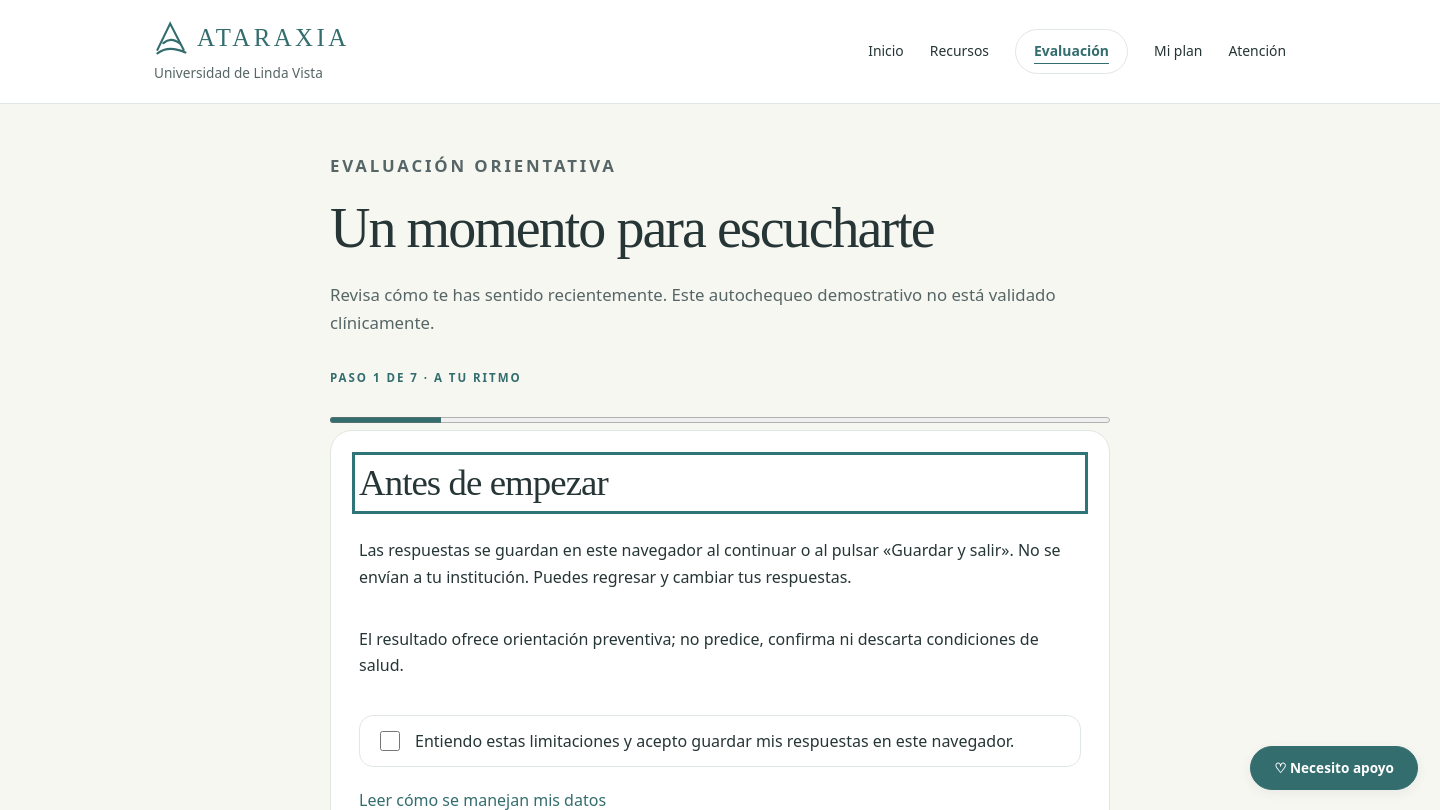
Scenario: accessible routes and navigation › allows returning from an incomplete step and continuing again
Click the checkbox. click: point(390, 741)
box: left=380, top=731, right=400, bottom=751
(page scrolled)
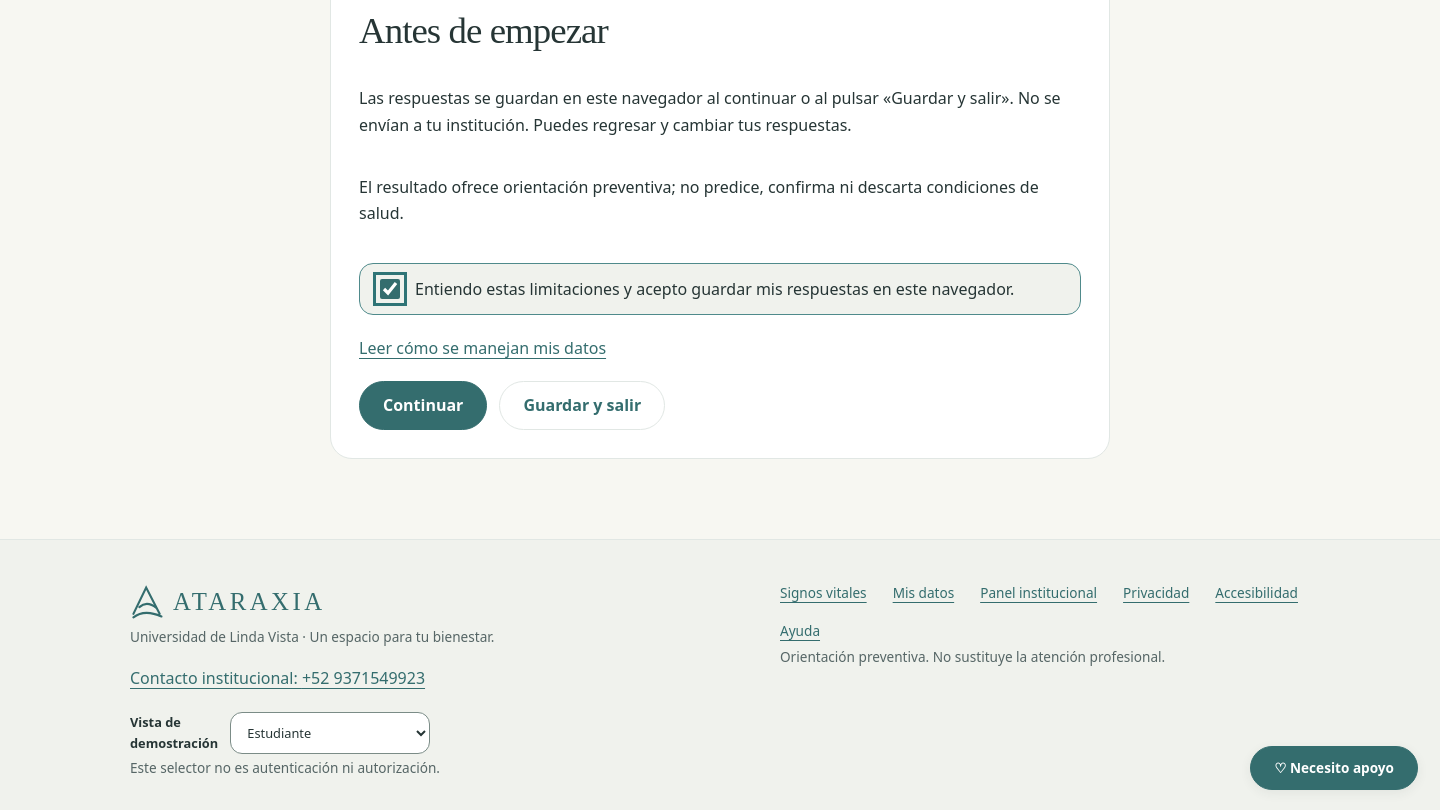
Click the button "Continuar". click: point(423, 406)
box: left=359, top=382, right=487, bottom=430
(page scrolled)
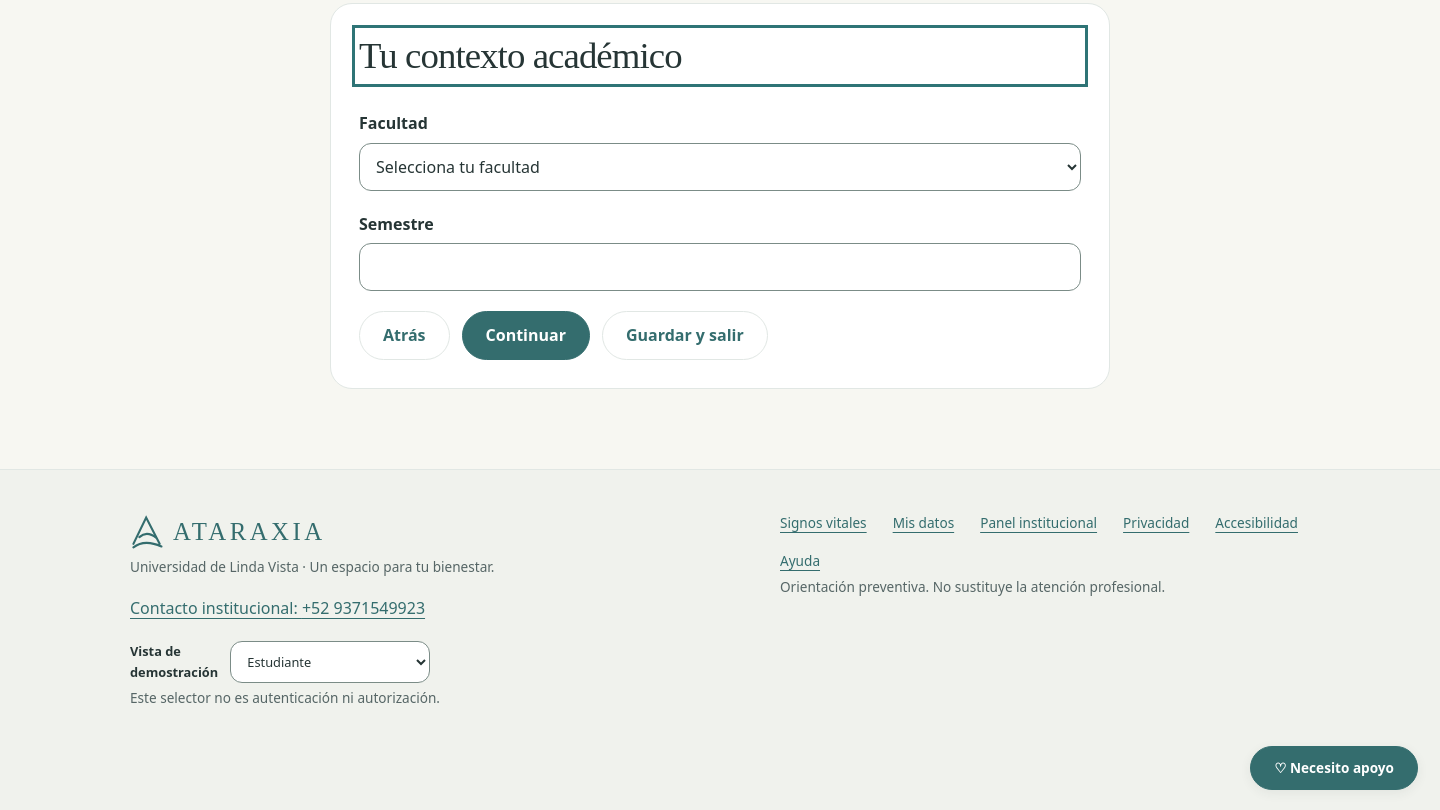
Click the button "Atrás". click: point(404, 336)
box: left=359, top=311, right=450, bottom=360
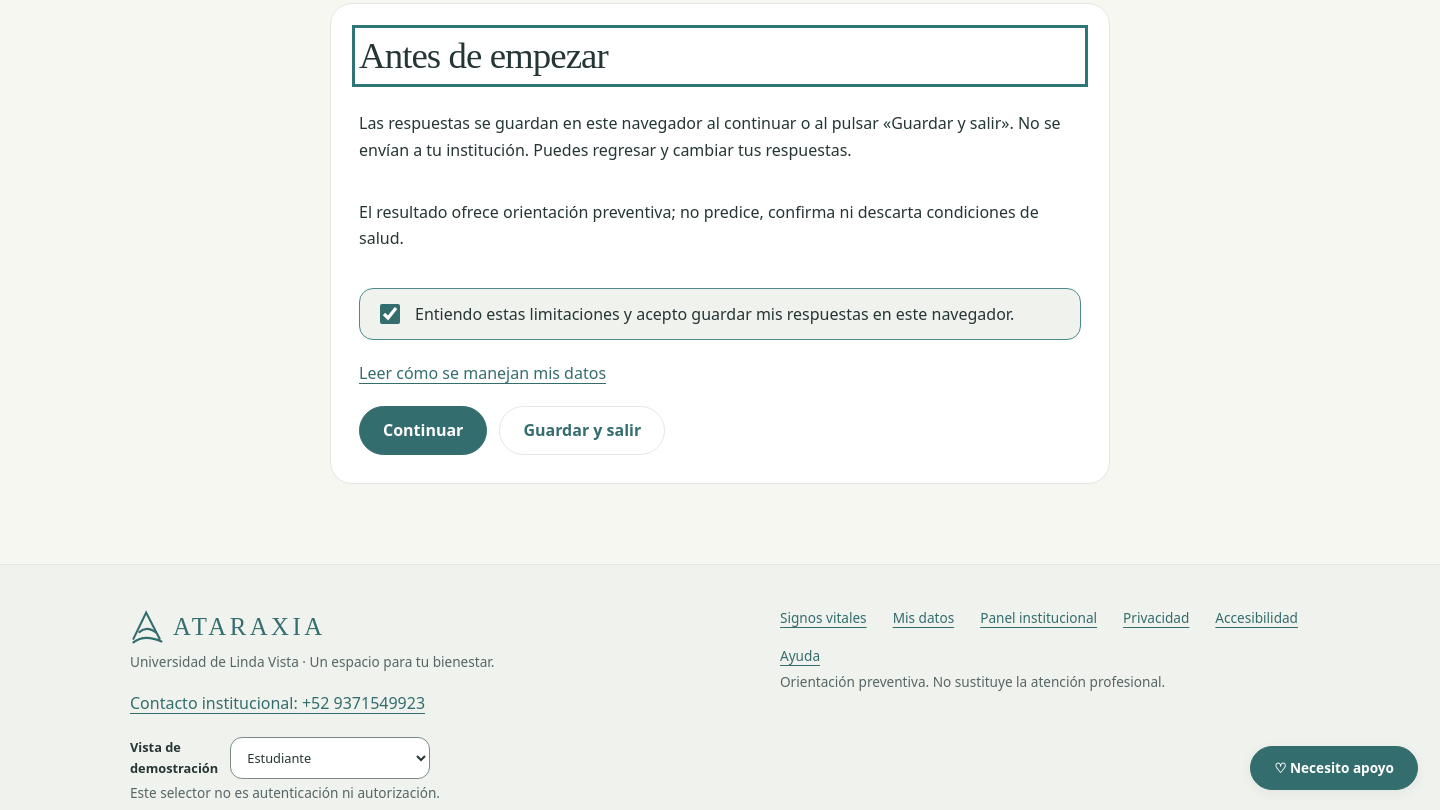
Check: the heading "Antes de empezar" is shown, box left=359, top=35, right=608, bottom=76
Check: the checkbox is checked, box left=380, top=304, right=400, bottom=324
Click the button "Continuar". click: point(423, 431)
box: left=359, top=406, right=487, bottom=455
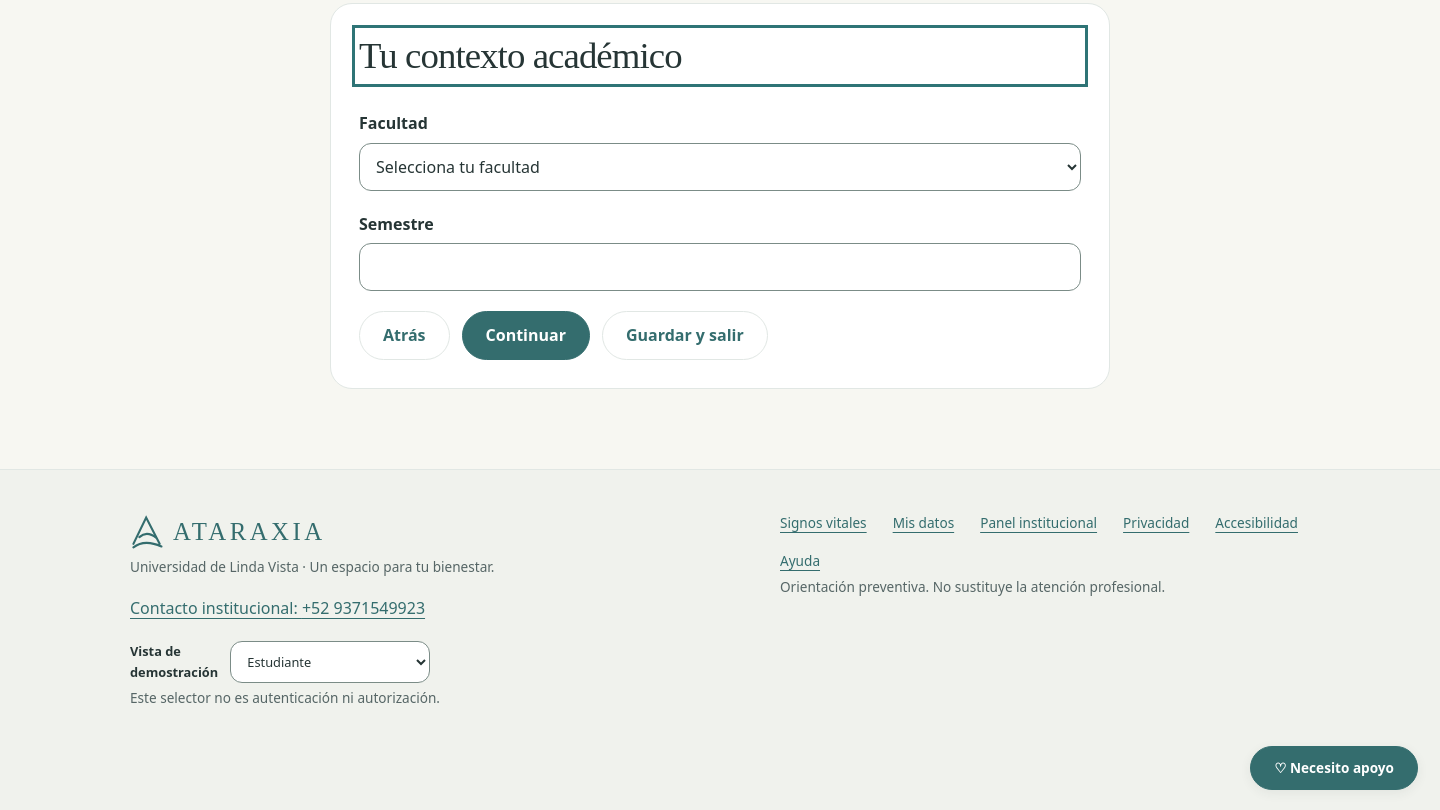
Check: the dropdown labelled "Facultad" is shown, box left=359, top=142, right=1081, bottom=190
